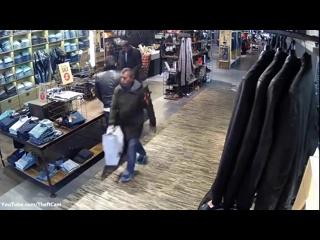Normal: (106, 68, 156, 184), (94, 57, 120, 130), (117, 42, 142, 80)
